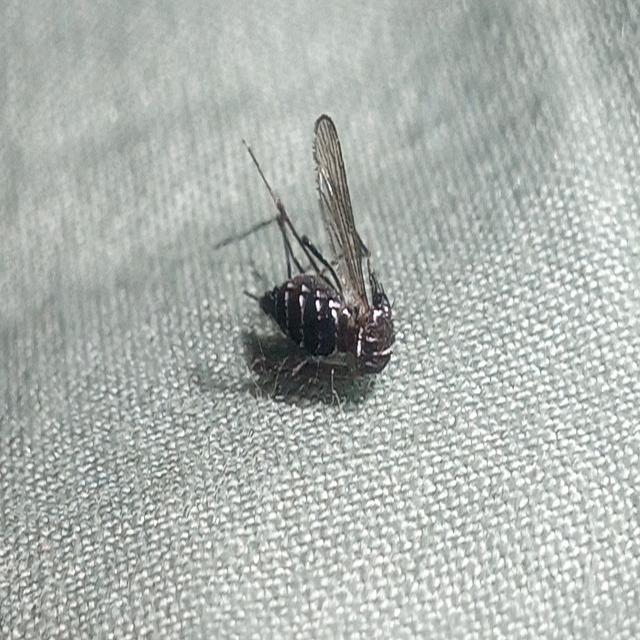albopictus: (203, 108, 399, 397)
